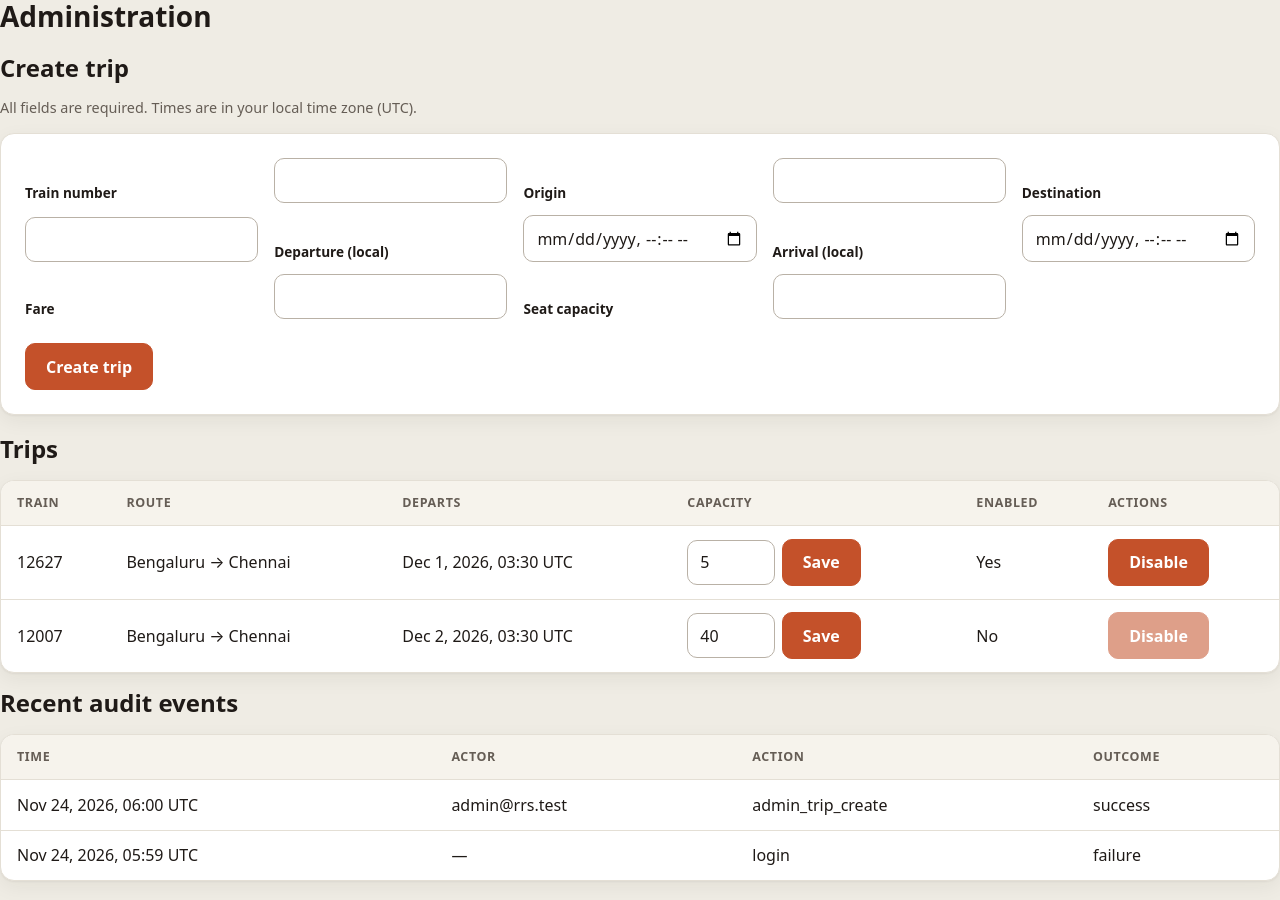
Test case: administration page › saving a new capacity sends a PATCH for that trip only
Replace the text in the number field named "Capacity for 12627" in the row of "12627" with "8" at (731,562), box [687,540,775,585]
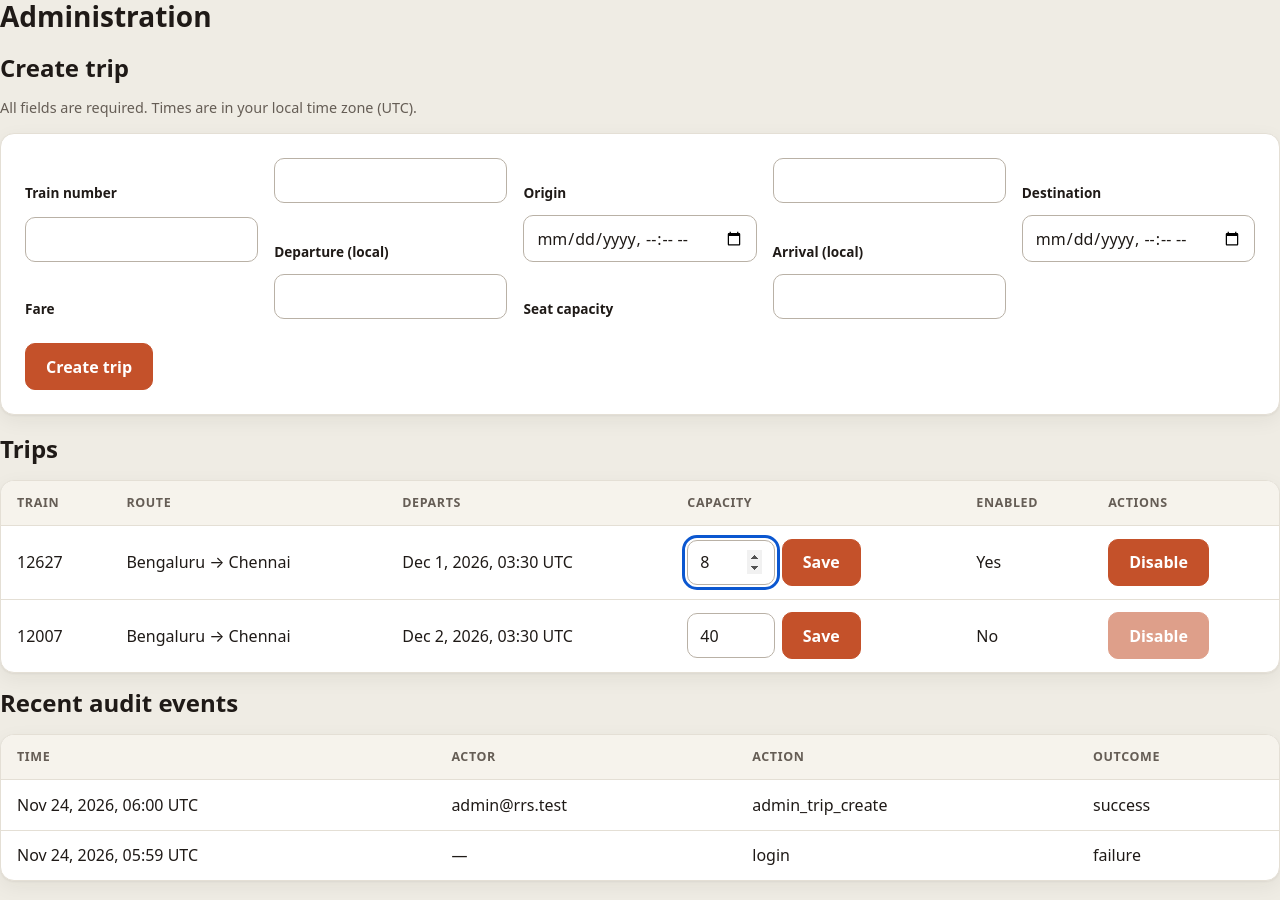
Click the button "Save" in the row of "12627".
click(821, 562)  # box [782,539,861,586]
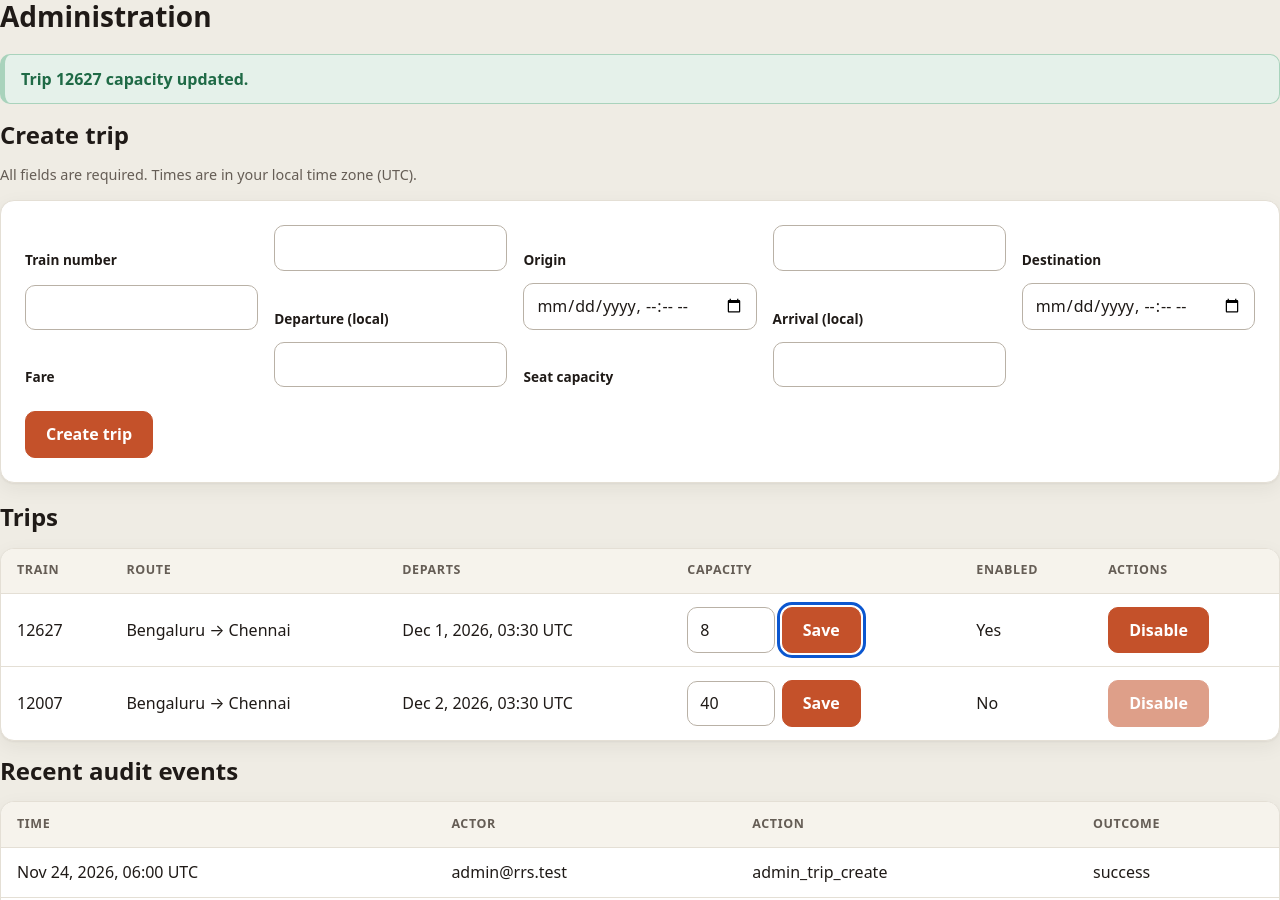
Now the message reads "Trip 12627 capacity updated.", box [21,68,248,90]
